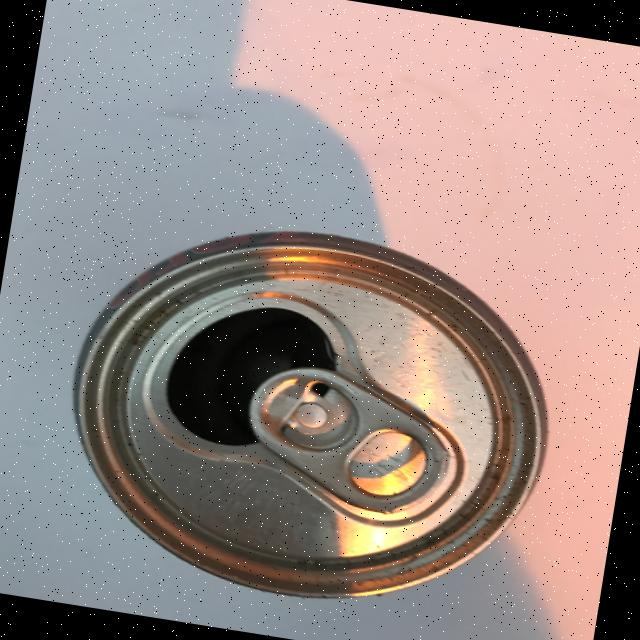metal: (45, 197, 575, 632)
